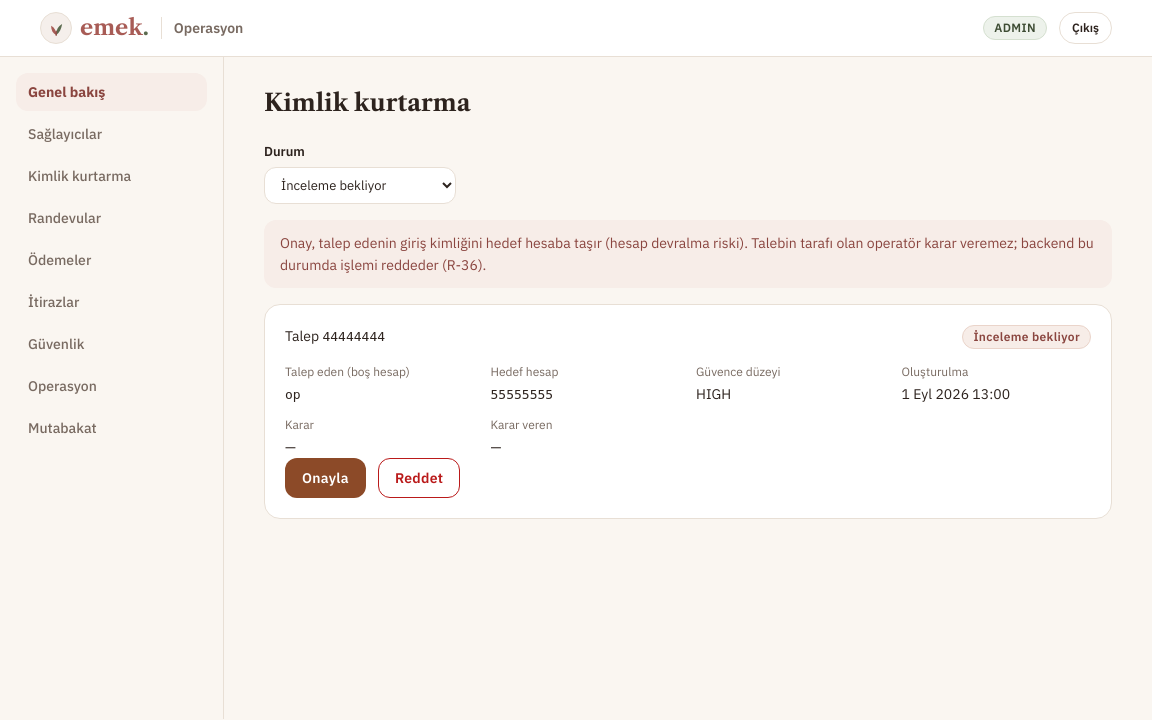
Test: kimlik kurtarma › R-36 reddi backend mesajıyla gösterilir
Click the button "Onayla": (325, 478) [285,458,366,498]
(page scrolled)
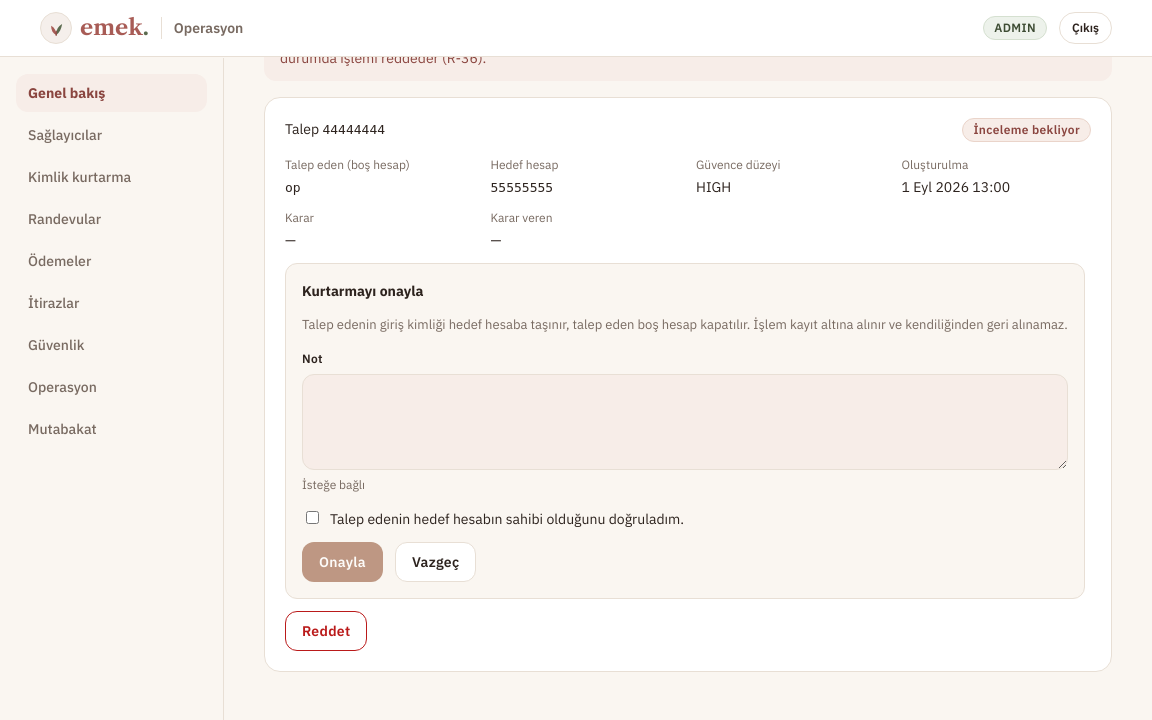
Click the checkbox: (312, 518) [306,511,319,524]
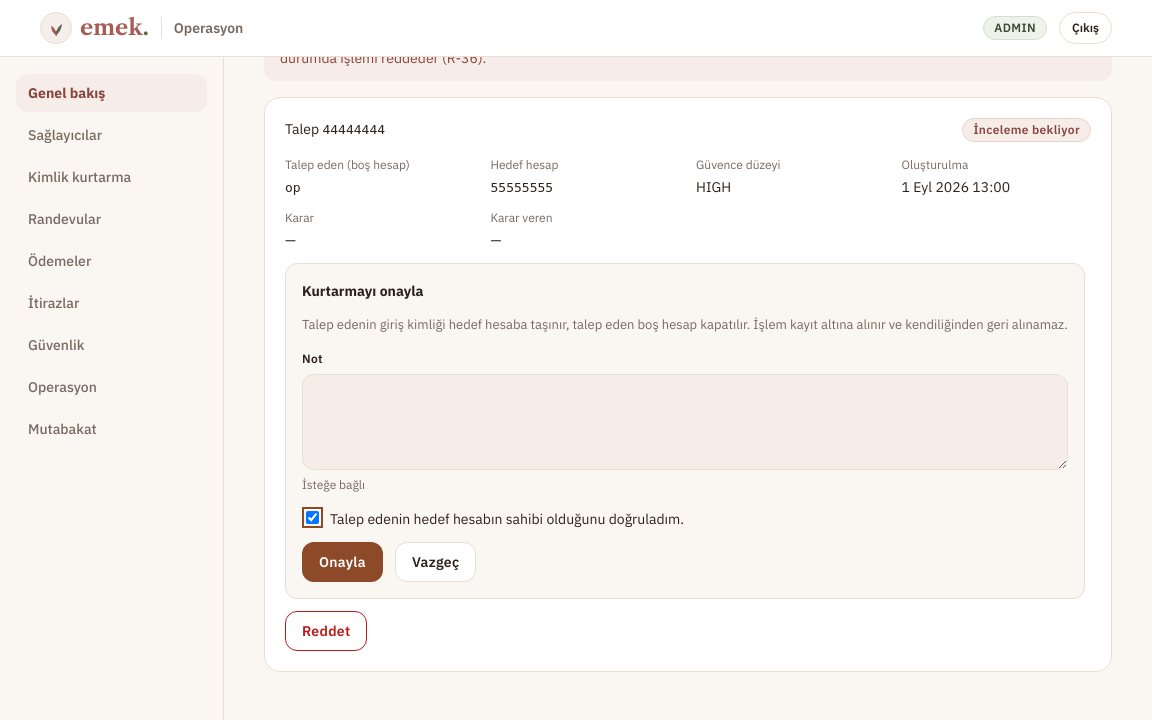
Click the button "Onayla": (342, 562) [302,542,383,582]
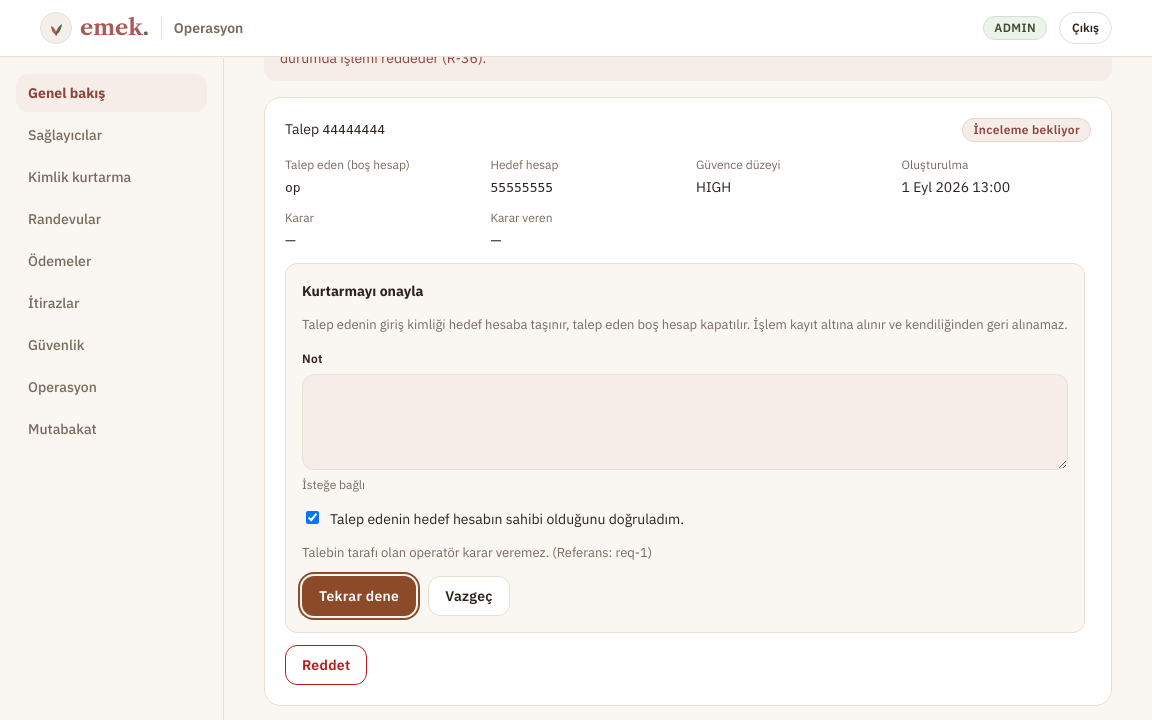
Now the message shows "Talebin tarafı olan operatör karar veremez.", box [302,544,549,561]
